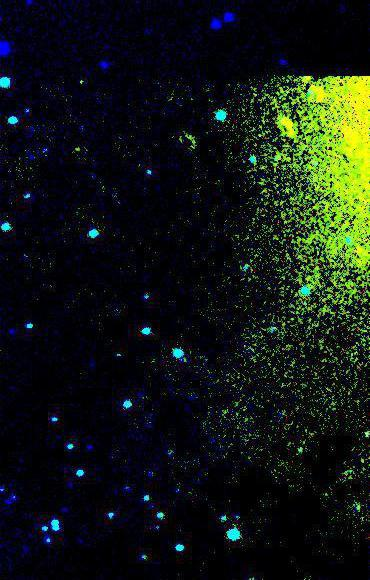star: (65, 73, 95, 103)
